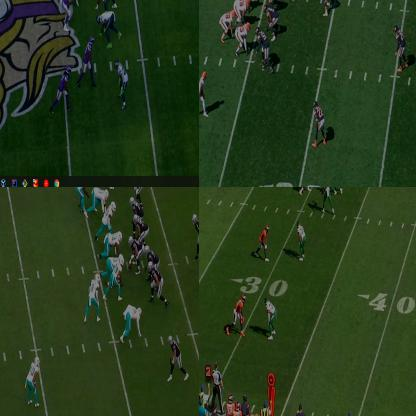CENTER: (127, 233, 141, 268)
DB: (24, 354, 40, 404), (108, 257, 124, 301), (314, 101, 329, 146), (395, 25, 409, 71), (88, 272, 100, 310), (265, 299, 275, 331), (298, 222, 306, 260)
LB: (256, 27, 272, 72), (116, 61, 128, 108), (100, 202, 116, 233), (321, 187, 334, 213), (320, 0, 334, 17), (78, 187, 90, 200)
QB: (191, 211, 198, 251)
SKILL: (78, 34, 97, 85), (168, 335, 184, 381), (56, 68, 70, 108), (236, 22, 251, 56), (256, 223, 270, 257), (232, 294, 246, 326), (199, 70, 207, 118), (221, 14, 234, 39), (132, 187, 145, 198)
